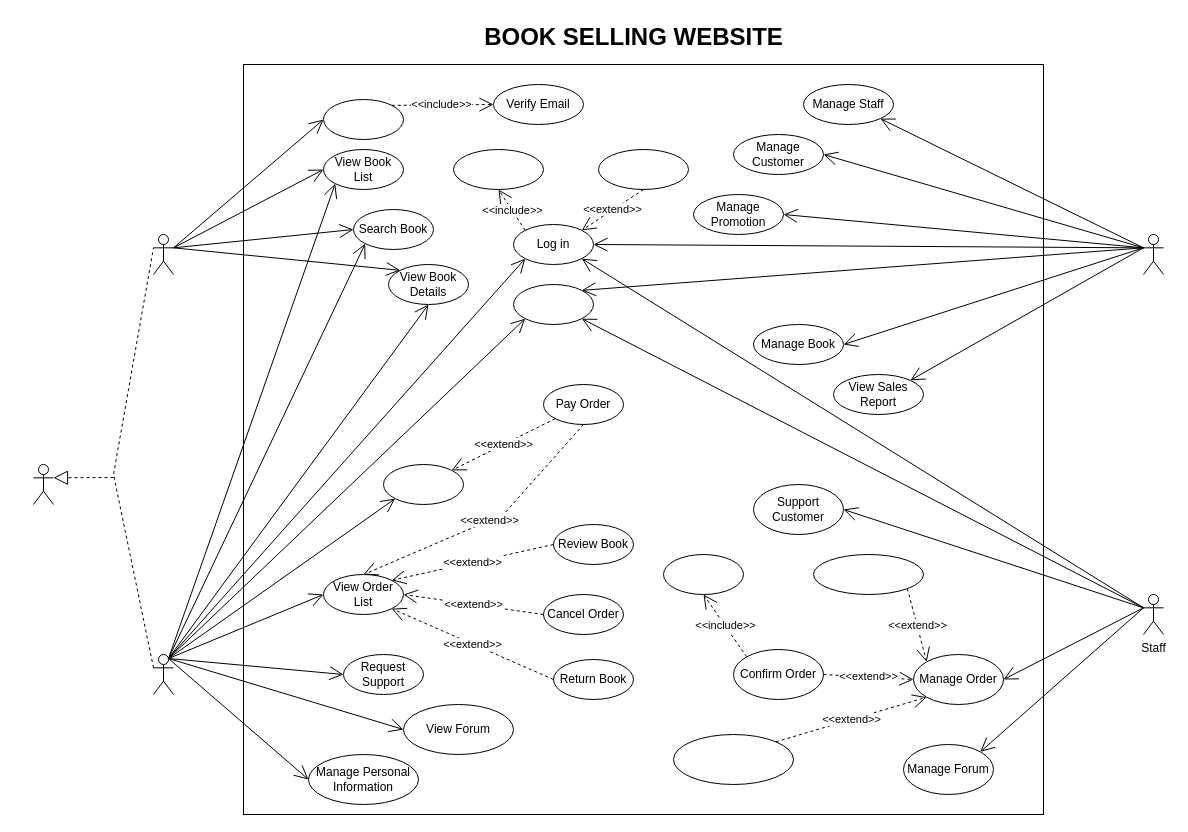
This 1188x832 diagram has some shape labels left out. The shapes that lost their labels are listed below. From the top down, each one's box as (x1, y1, x2, y2) in pixels, then its label:
(322, 98, 404, 140): Register
(452, 148, 544, 190): Verify Account
(598, 148, 688, 190): Forgot Password
(152, 234, 174, 274): Unregistered Customer
(1142, 234, 1164, 274): Owner
(512, 284, 594, 324): Log out
(32, 464, 54, 504): Customer
(382, 464, 464, 504): Manage Cart
(662, 554, 744, 594): Send Email
(812, 554, 924, 594): Manage Book Reviews
(152, 654, 174, 694): Registered Customer
(672, 734, 794, 784): Process Returned Book
